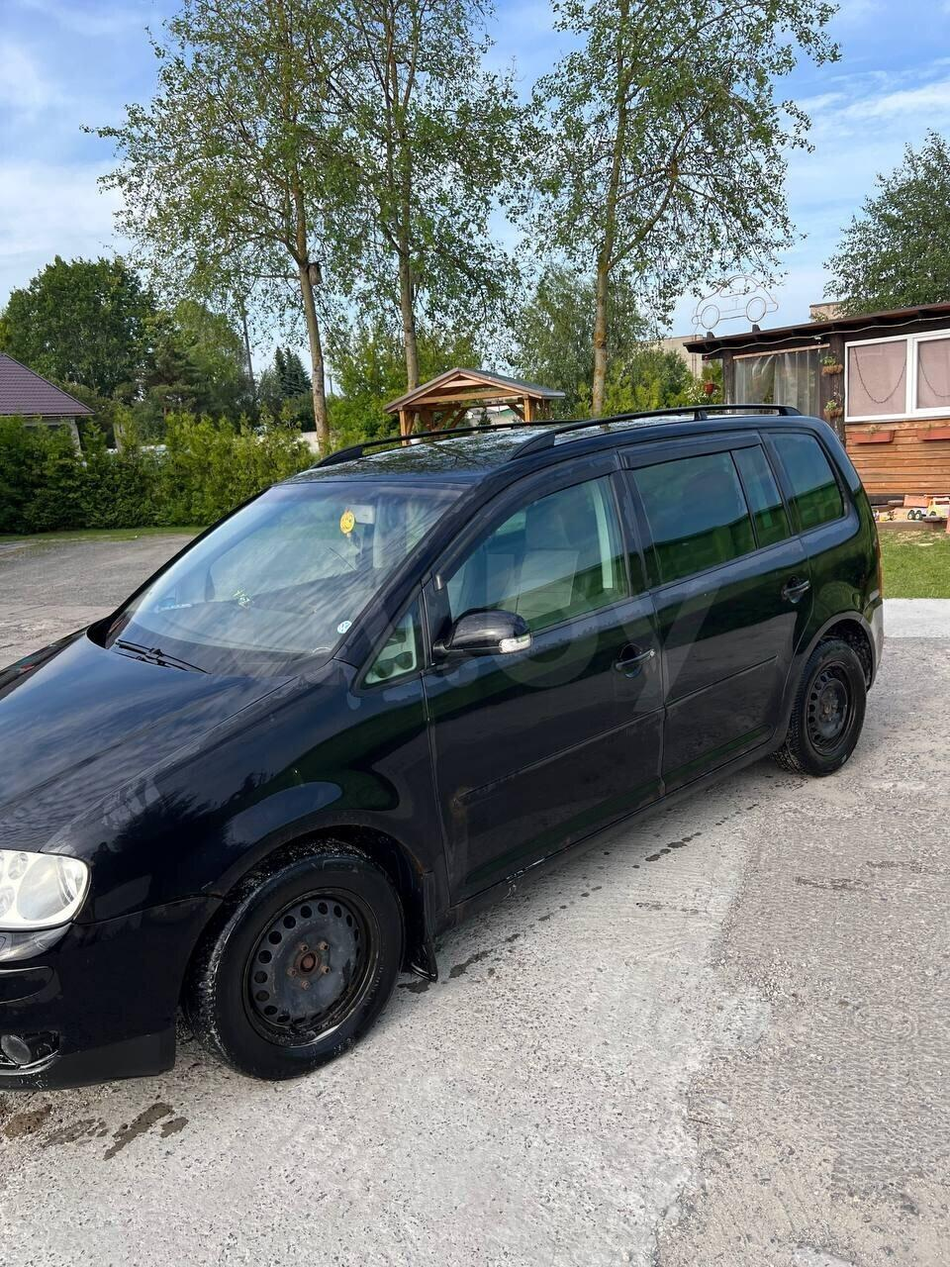Touran_2003-2006: (0, 404, 879, 1095)
